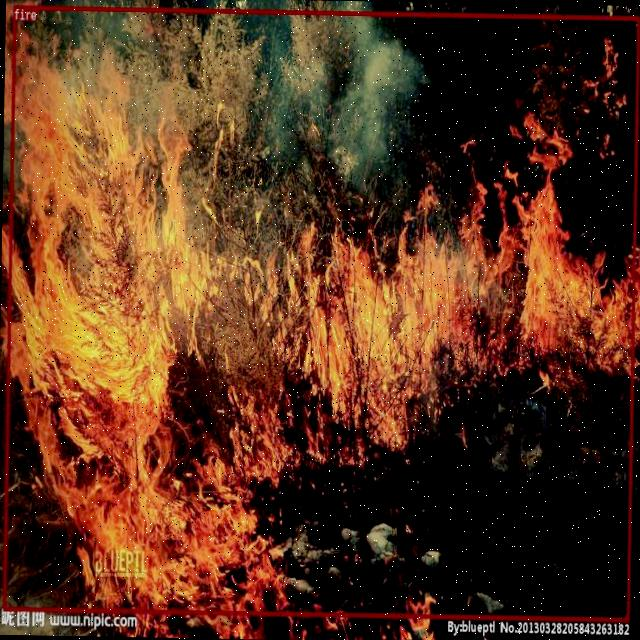fire: (2, 5, 638, 621)
